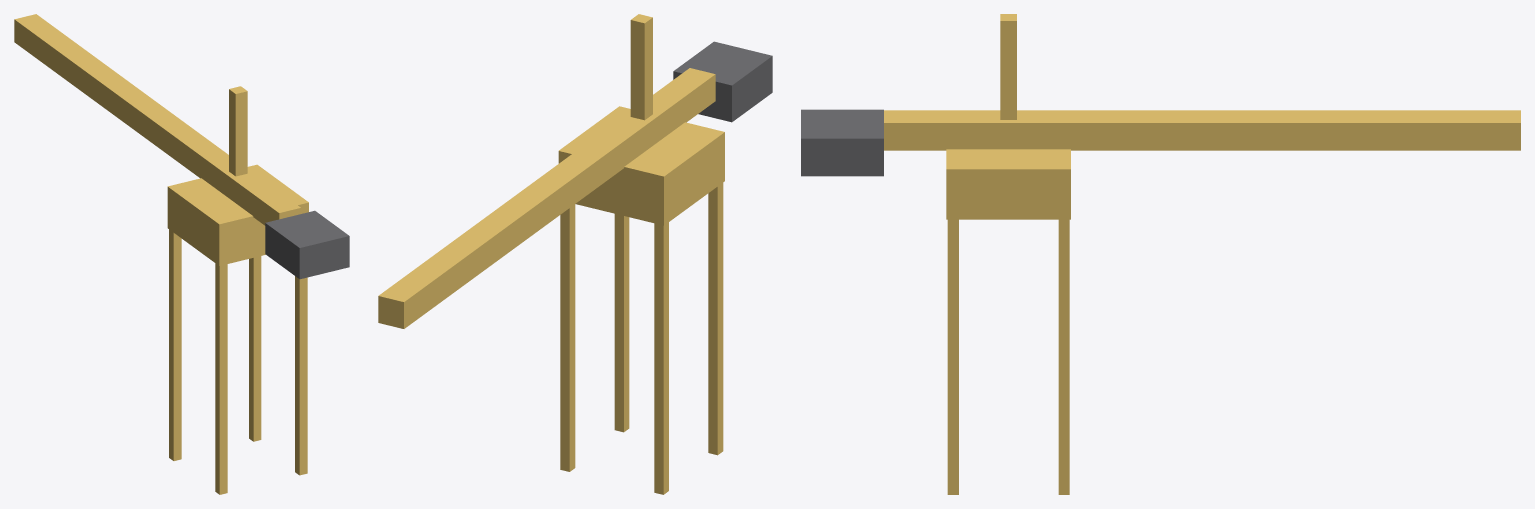
The model's file is crane.glb.
The picture shows the model from 3 angles, left to right: view 1: azimuth 30°, elevation 25°; view 2: azimuth 150°, elevation 25°; view 3: azimuth 270°, elevation 25°; orthographic projection. The views are drawn at different scales.
Parts seen in each view (by area): view 1: crane; view 2: crane; view 3: crane.
Part boxes in pixels (x1,y1,x2,y2): crane: (14, 14, 349, 494); crane: (378, 14, 772, 494); crane: (801, 14, 1520, 494).
Size of the model in its own units: 9 by 36 by 52.
